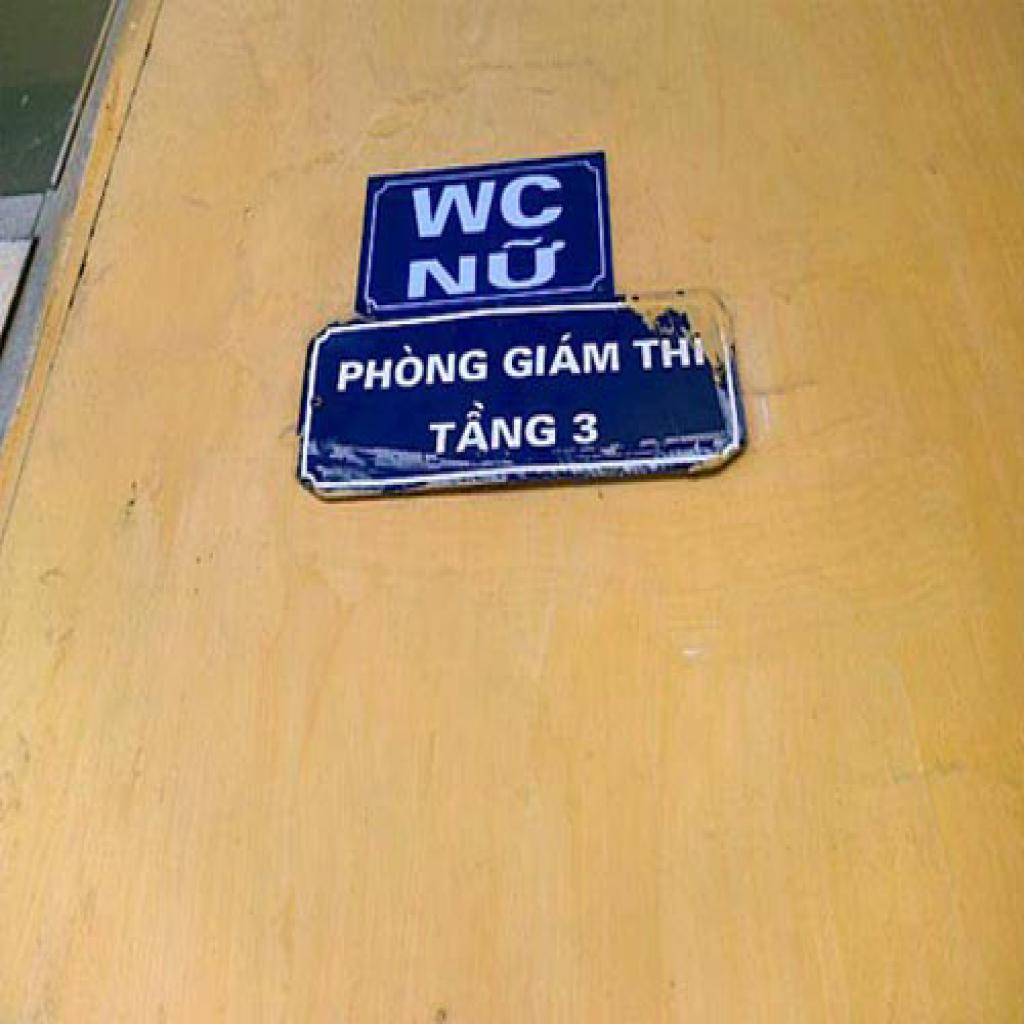text: (408, 169, 570, 245), (404, 234, 574, 302), (334, 332, 493, 398), (424, 392, 561, 466), (500, 327, 624, 387), (632, 332, 708, 379)
